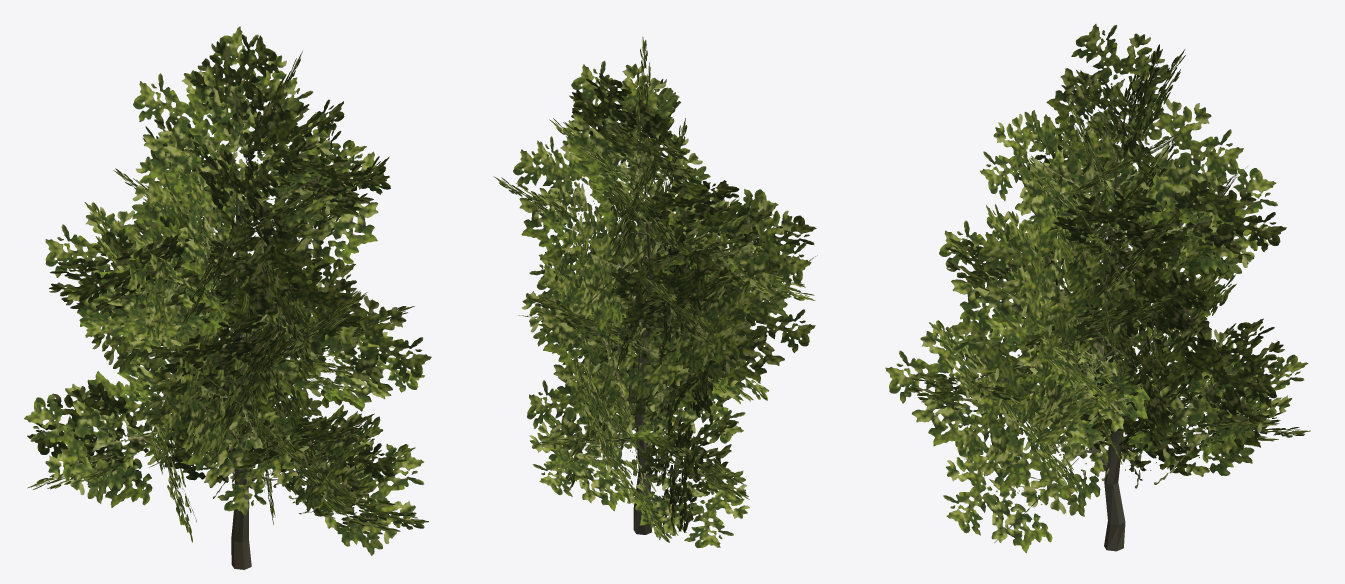
The model's file is laubbaum_02.glb.
The picture shows the model from 3 angles, left to right: view 1: azimuth 30°, elevation 25°; view 2: azimuth 150°, elevation 25°; view 3: azimuth 270°, elevation 25°; orthographic projection. The views are drawn at different scales.
Parts seen in each view (by area): view 1: laub, rinde; view 2: laub, rinde; view 3: laub, rinde.
Boxes of the visible parts, left/top/right/bottom form: laub: left=24, top=26, right=431, bottom=555; rinde: left=196, top=162, right=289, bottom=569; laub: left=493, top=36, right=817, bottom=547; rinde: left=593, top=167, right=691, bottom=534; laub: left=885, top=24, right=1310, bottom=553; rinde: left=1061, top=147, right=1153, bottom=551.
Size of the model in its own units: 5.99 by 8.4 by 6.71.
2 materials, 1 textured.
